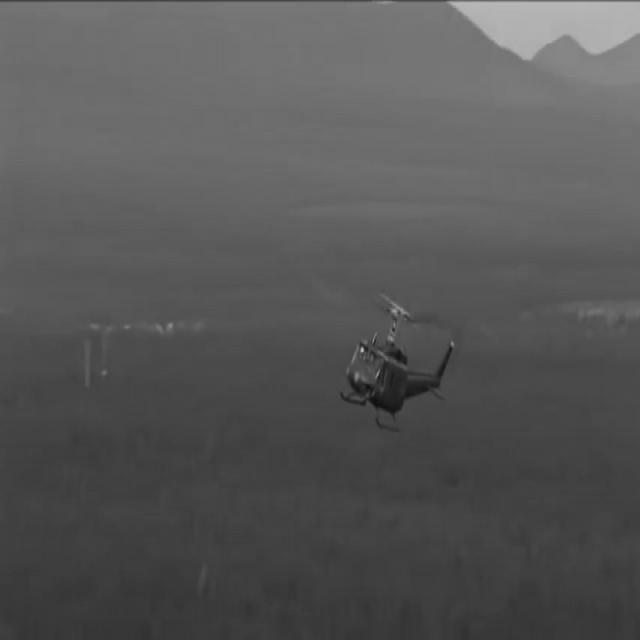helikopter: (331, 278, 470, 446)
